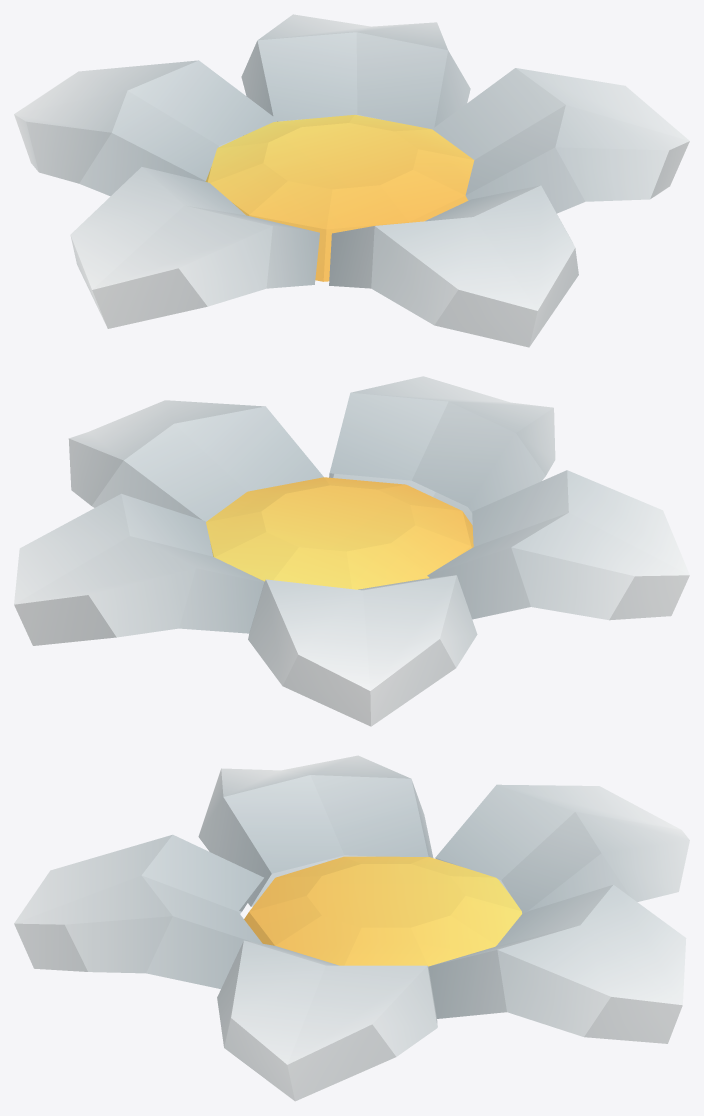
Rendered from flower-1.glb.
3 views of the same model, one above another, from view 1: azimuth 30°, elevation 25°; view 2: azimuth 150°, elevation 25°; view 3: azimuth 270°, elevation 25° (orthographic).
Visible parts, largest first — view 1: Flower1; view 2: Flower1; view 3: Flower1.
Boxes of the visible parts, x1,y1,x2,y2 form: Flower1: (14,14,689,347); Flower1: (14,376,689,726); Flower1: (14,755,689,1101).
Size of the model in its own units: 0.6751 by 0.0987 by 0.655.
Materials: 1 (1 with a texture image).
